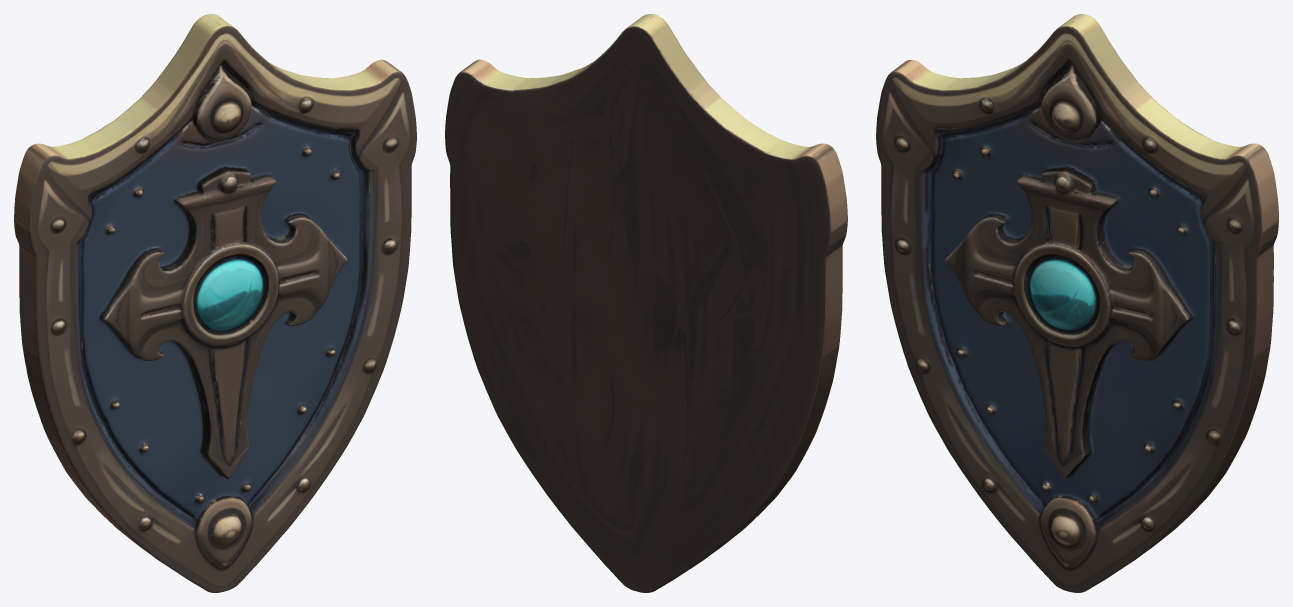
Rendered from Sheild 04.fbx.
3 renders of one model, left to right at view 1: azimuth 30°, elevation 25°; view 2: azimuth 150°, elevation 25°; view 3: azimuth 330°, elevation 25°, orthographic.
Parts seen in each view (by area): view 1: Sheild 04; view 2: Sheild 04; view 3: Sheild 04.
Part boxes in pixels (<box>): Sheild 04: <box>14,14,416,592</box>; Sheild 04: <box>445,14,847,592</box>; Sheild 04: <box>876,14,1278,592</box>.
Size of the model in its own units: 136 by 190 by 17.56.
1 material, 1 textured.
